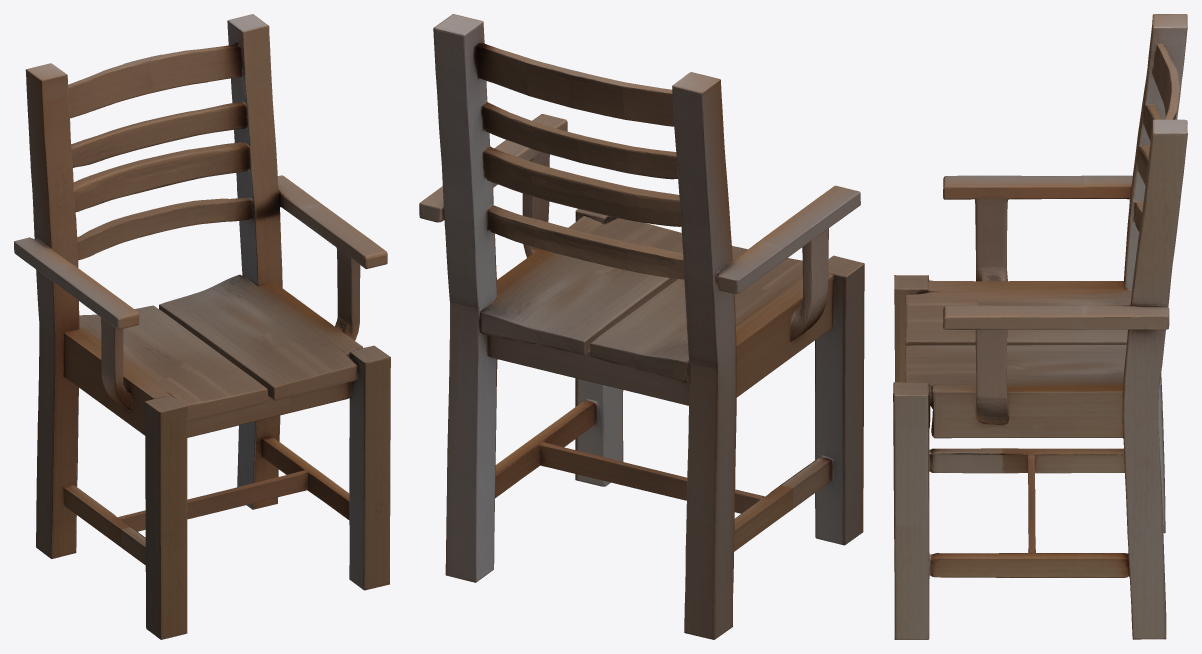
The model's file is 앤디1_암체어__오크_.glb.
3 renders of one model, left to right at view 1: azimuth 30°, elevation 25°; view 2: azimuth 150°, elevation 25°; view 3: azimuth 270°, elevation 25°, orthographic. The views are drawn at different scales.
Visible parts, largest first — view 1: world; view 2: world; view 3: world.
Boxes of the visible parts, x1,y1,x2,y2 form: world: (14,14,390,639); world: (419,14,864,639); world: (893,14,1187,639).
Bounding box in the file's own units: 0.5998 × 0.9993 × 0.5264.
1 material, 1 textured.
